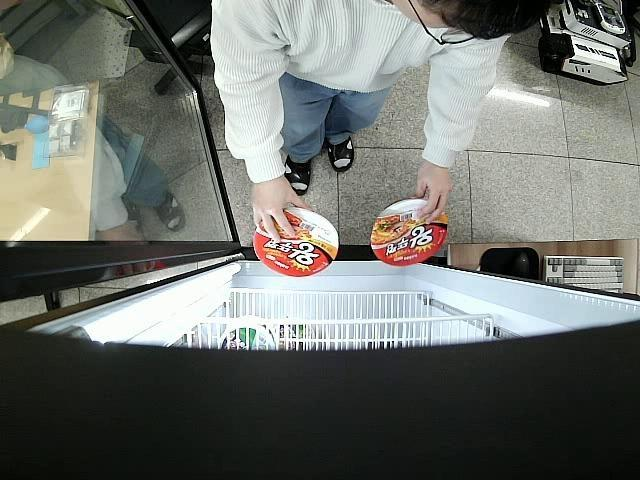10_wangTtukkeong: (255, 206, 338, 278), (371, 198, 448, 266)
